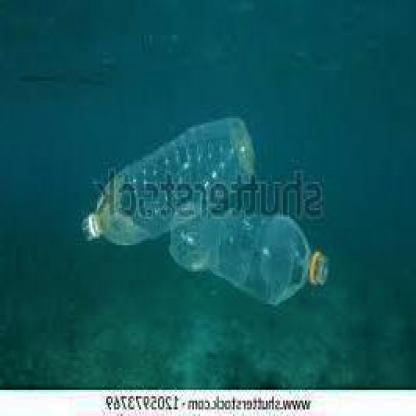pbottle: (76, 112, 260, 250), (160, 201, 333, 311)
